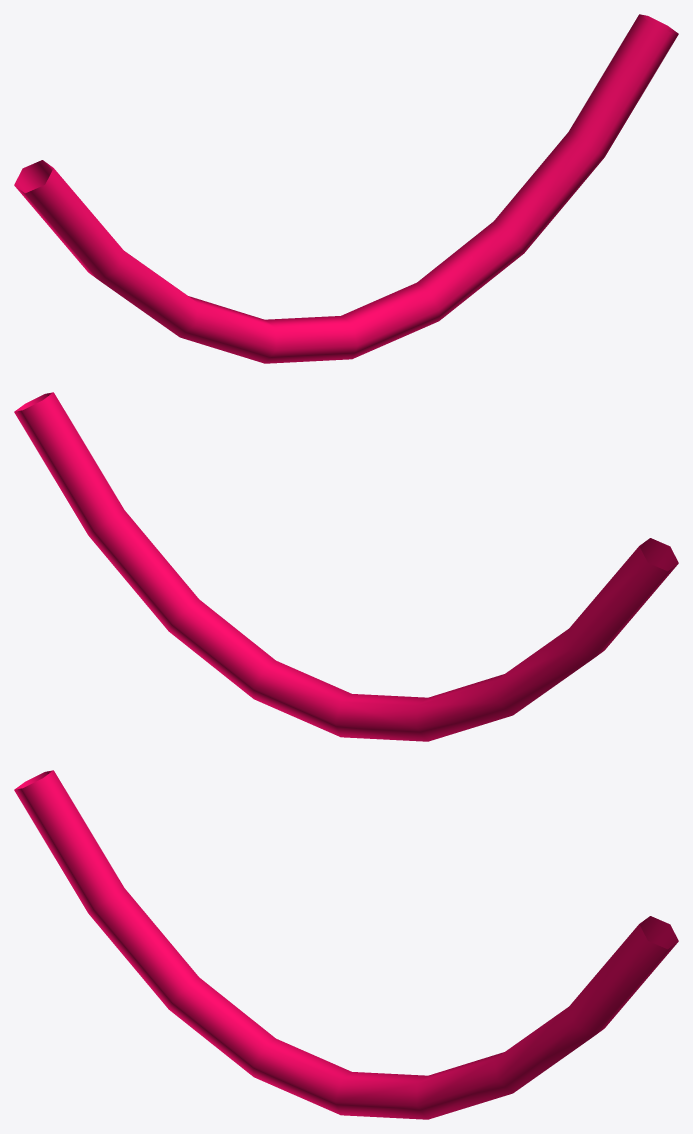
Rendered from BannerRope_geo.fbx.
3 views of the same model, one above another, from view 1: azimuth 30°, elevation 25°; view 2: azimuth 150°, elevation 25°; view 3: azimuth 330°, elevation 25° (orthographic).
Visible parts, largest first — view 1: BannerRope_geo; view 2: BannerRope_geo; view 3: BannerRope_geo.
Boxes of the visible parts, x1=… form: BannerRope_geo: x1=14, y1=14, x2=678, y2=363; BannerRope_geo: x1=14, y1=392, x2=678, y2=741; BannerRope_geo: x1=14, y1=770, x2=678, y2=1119.
Bounding box in the file's own units: 1.42 × 0.0842 × 0.548.
